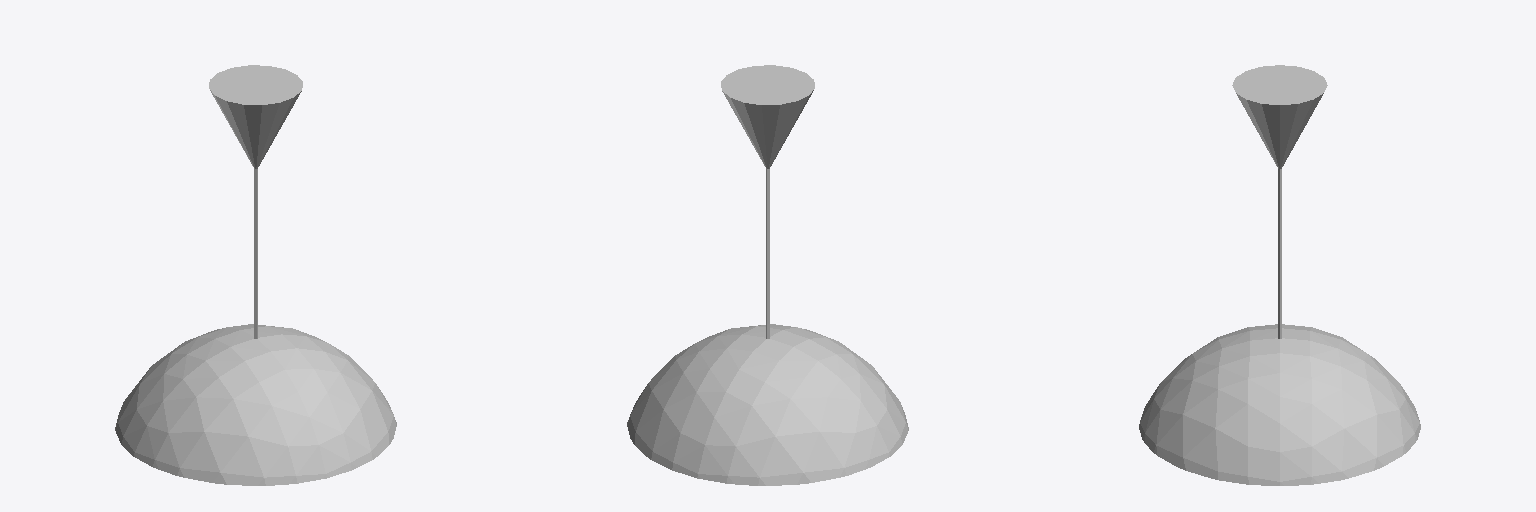
Rendered from pendantLamp.obj.
3 renders of one model, left to right at view 1: azimuth 30°, elevation 25°; view 2: azimuth 150°, elevation 25°; view 3: azimuth 270°, elevation 25°, orthographic.
Parts seen in each view (by area): view 1: Sphere, Socle, Cable; view 2: Sphere, Socle, Cable; view 3: Sphere, Socle, Cable.
Part boxes in pixels (left/top/right/bottom): Sphere: left=115, top=324, right=396, bottom=485; Socle: left=209, top=65, right=302, bottom=168; Cable: left=254, top=169, right=257, bottom=338; Sphere: left=627, top=324, right=908, bottom=485; Socle: left=721, top=65, right=814, bottom=168; Cable: left=766, top=169, right=769, bottom=338; Sphere: left=1139, top=324, right=1420, bottom=485; Socle: left=1232, top=65, right=1327, bottom=168; Cable: left=1278, top=169, right=1281, bottom=338.
Size of the model in its own units: 0.5913 by 0.7883 by 0.5913.